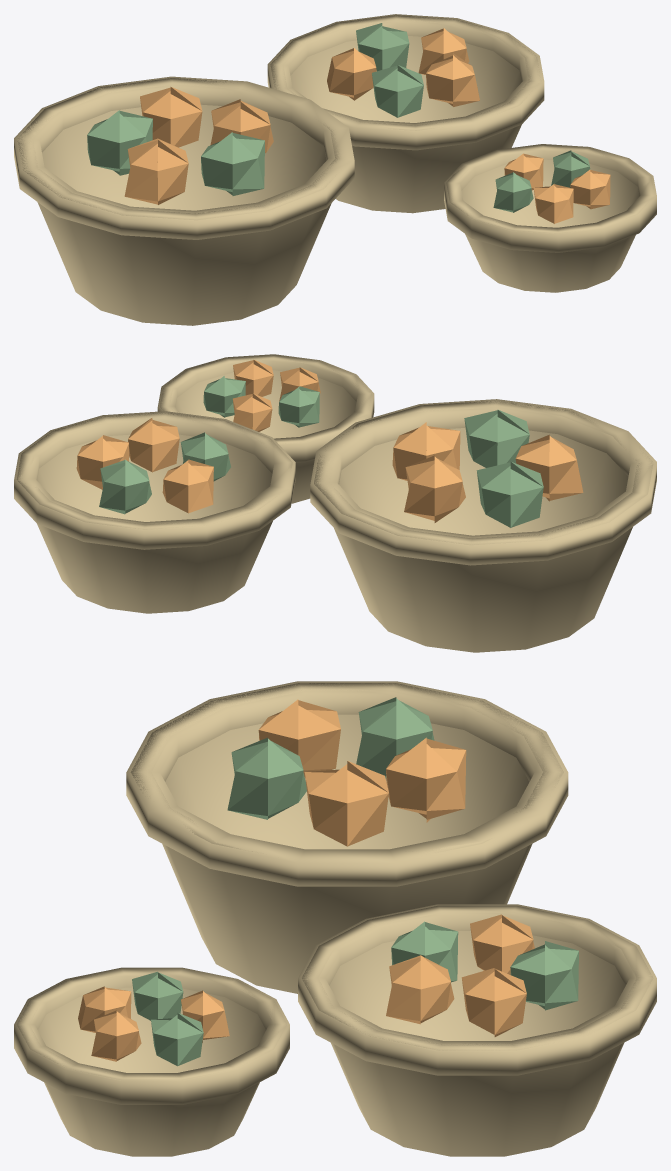
The model's file is korean-hanok-village-and-street-produce-basket-set-0d57d77d.glb.
3 renders of one model, top to bottom at view 1: azimuth 30°, elevation 25°; view 2: azimuth 150°, elevation 25°; view 3: azimuth 270°, elevation 25°, orthographic. The views are drawn at different scales.
Visible parts, largest first — view 1: produce-basket-set; view 2: produce-basket-set; view 3: produce-basket-set.
Boxes of the visible parts, x1,y1,x2,y2 form: produce-basket-set: (14, 14, 656, 325); produce-basket-set: (14, 354, 656, 652); produce-basket-set: (14, 681, 656, 1156).
Size of the model in its own units: 1.22 by 0.3591 by 0.9876.
